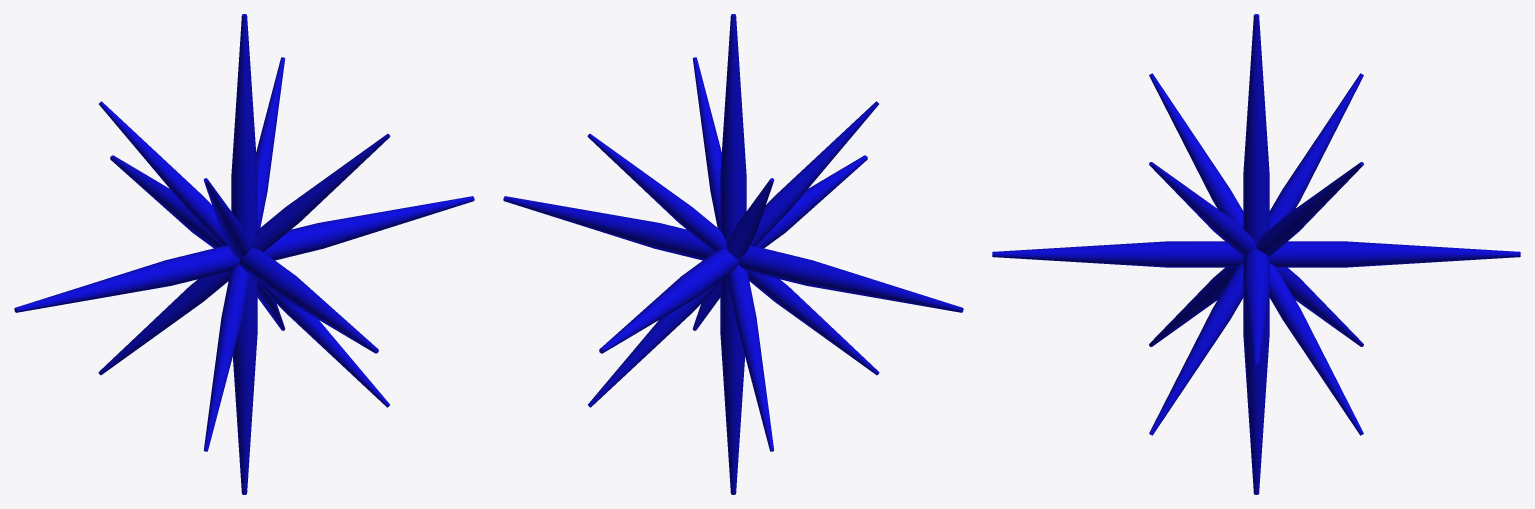
The model's file is spawner_ai.obj.
The picture shows the model from 3 angles, left to right: view 1: azimuth 30°, elevation 25°; view 2: azimuth 150°, elevation 25°; view 3: azimuth 270°, elevation 25°; orthographic projection.
Visible parts, largest first — view 1: spawner_ai; view 2: spawner_ai; view 3: spawner_ai.
Boxes of the visible parts, box(x1,y1,x2,y2) form: spawner_ai: box(14, 14, 474, 494); spawner_ai: box(503, 14, 963, 494); spawner_ai: box(992, 14, 1520, 494).
Size of the model in its own units: 1 by 1 by 1.
Materials: 1 (1 with a texture image).
